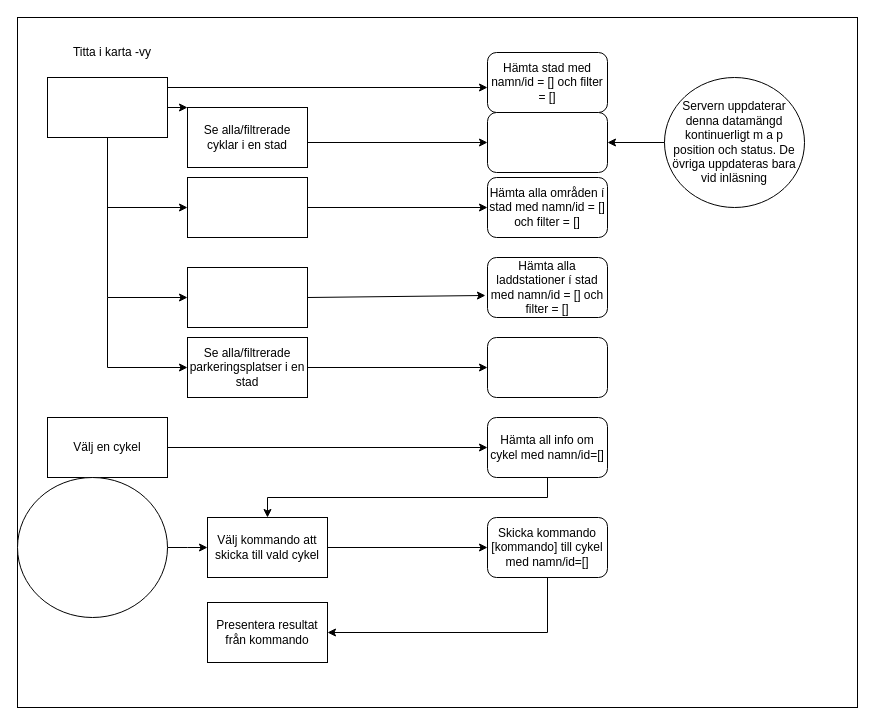
Image size: 875x725. Some labels were removed from this diagram. Each missing label, with the centre of its shape:
"Hämta alla cyklar í stad med namn/id = [] och filter = []" goes at (547,142).
"Hämta alla parkeringsplatser í stad med namn/id = [] och filter = []" goes at (547,367).
"Möjliga kommandon: STANNA" goes at (92,547).
"Se alla/filtrerade laddstationer i en stad" goes at (247,297).
"Se alla/filtrerade områden i en stad" goes at (247,207).
"Välj en stad" goes at (107,107).
